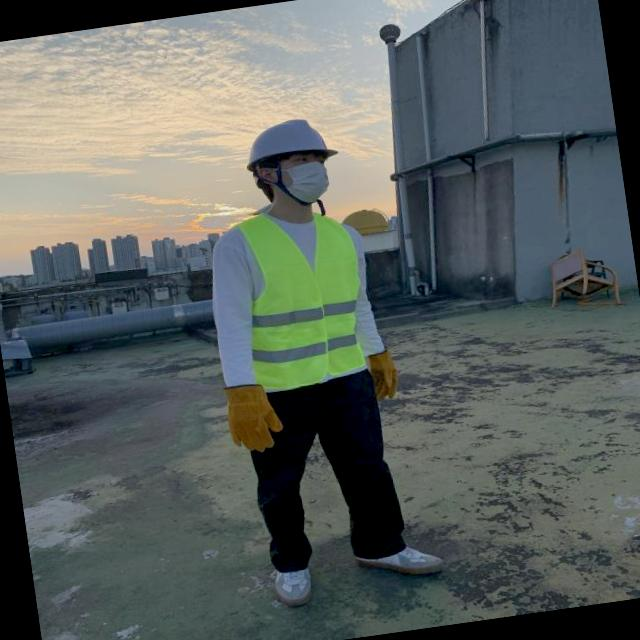vest: (230, 205, 368, 394)
